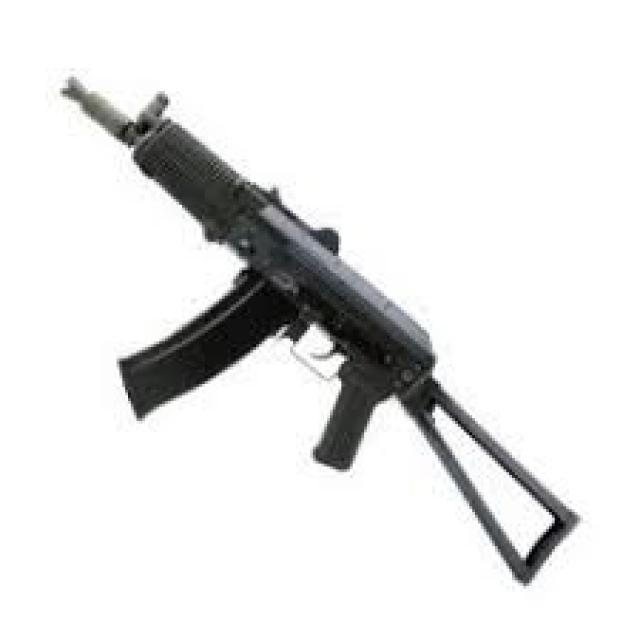rifle: (59, 67, 583, 588)
